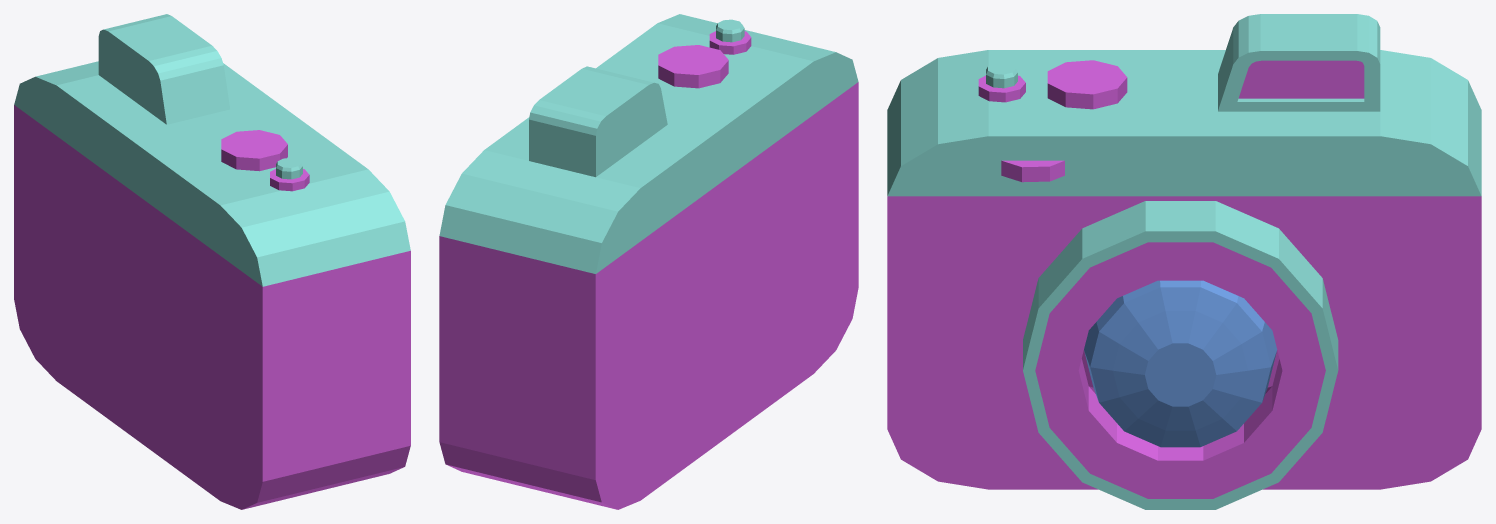
File: camera.fbx
3 views of the same model, side by side, from view 1: azimuth 30°, elevation 25°; view 2: azimuth 150°, elevation 25°; view 3: azimuth 270°, elevation 25° (orthographic). The views are drawn at different scales.
Visible parts, largest first — view 1: Camera; view 2: Camera; view 3: Camera.
Part boxes in pixels (x1,y1,x2,y2): Camera: (14, 14, 410, 509); Camera: (439, 14, 858, 509); Camera: (887, 14, 1481, 509).
Bounding box in the file's own units: 35.66 × 56.54 × 73.56.
